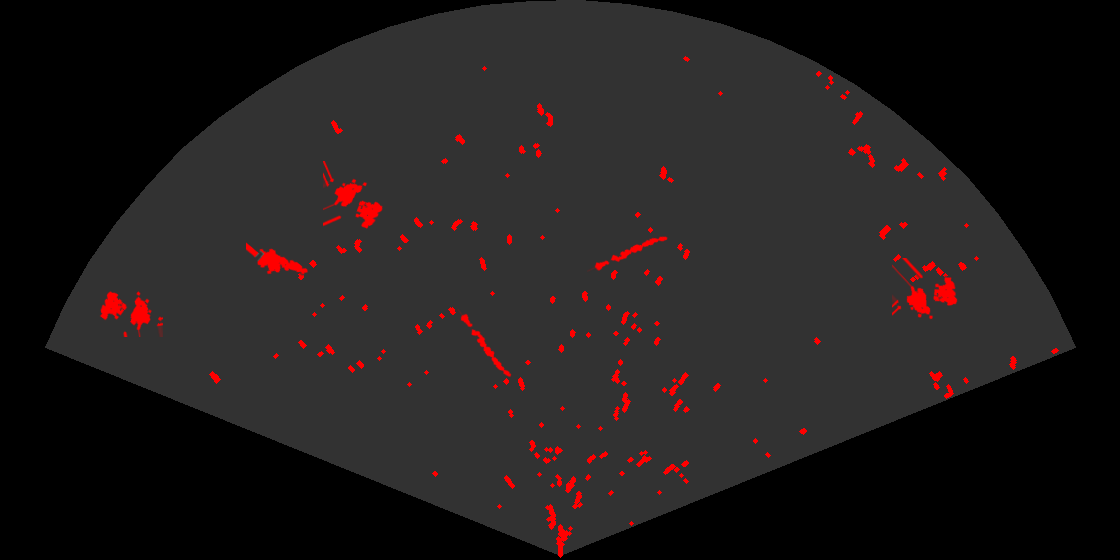cage: (323, 161, 384, 231), (892, 258, 959, 321), (98, 290, 163, 337)
chain: (456, 309, 513, 379), (587, 235, 669, 273)
frogman: (246, 241, 310, 276)
